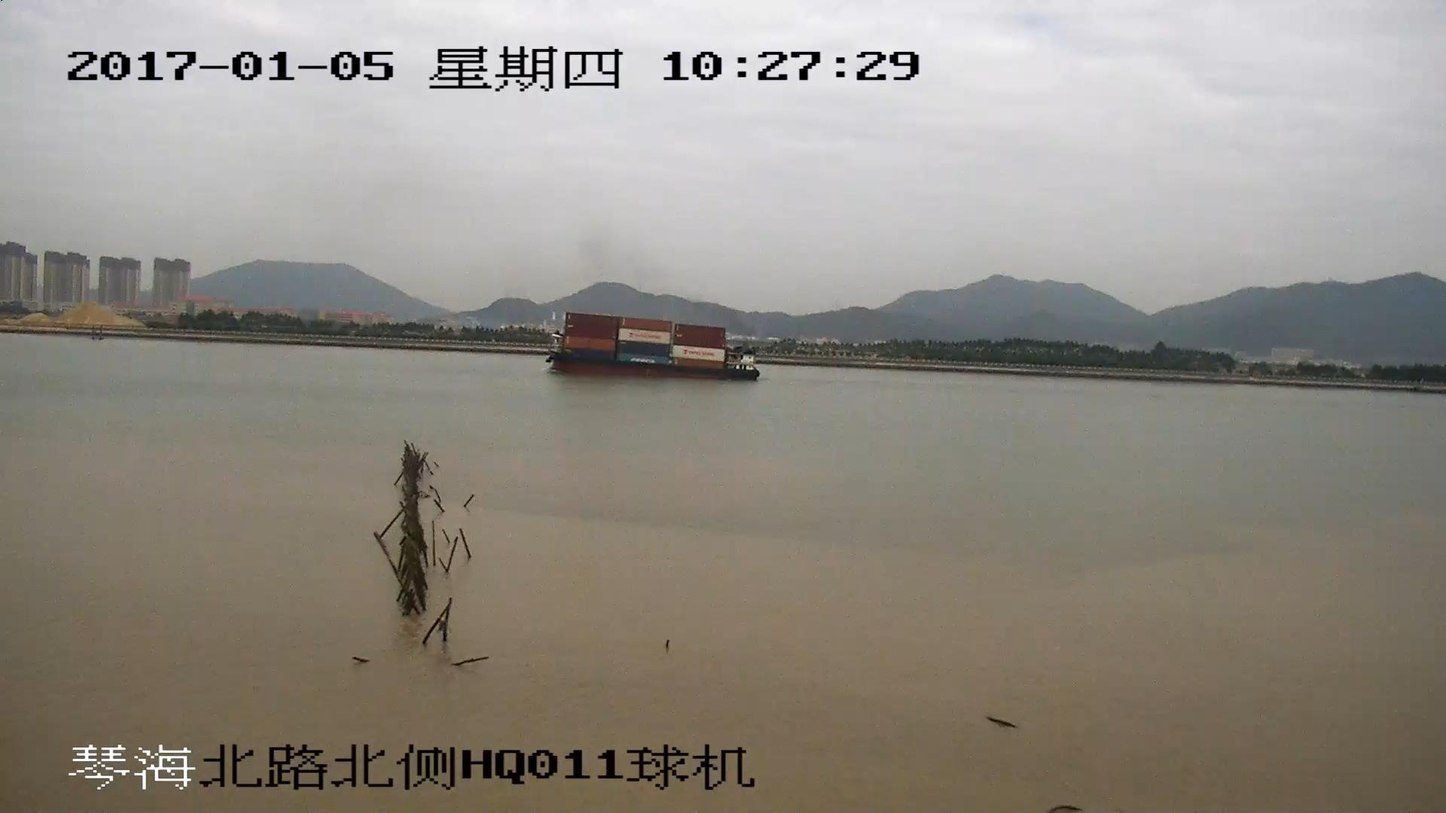container ship: (539, 312, 758, 381)
